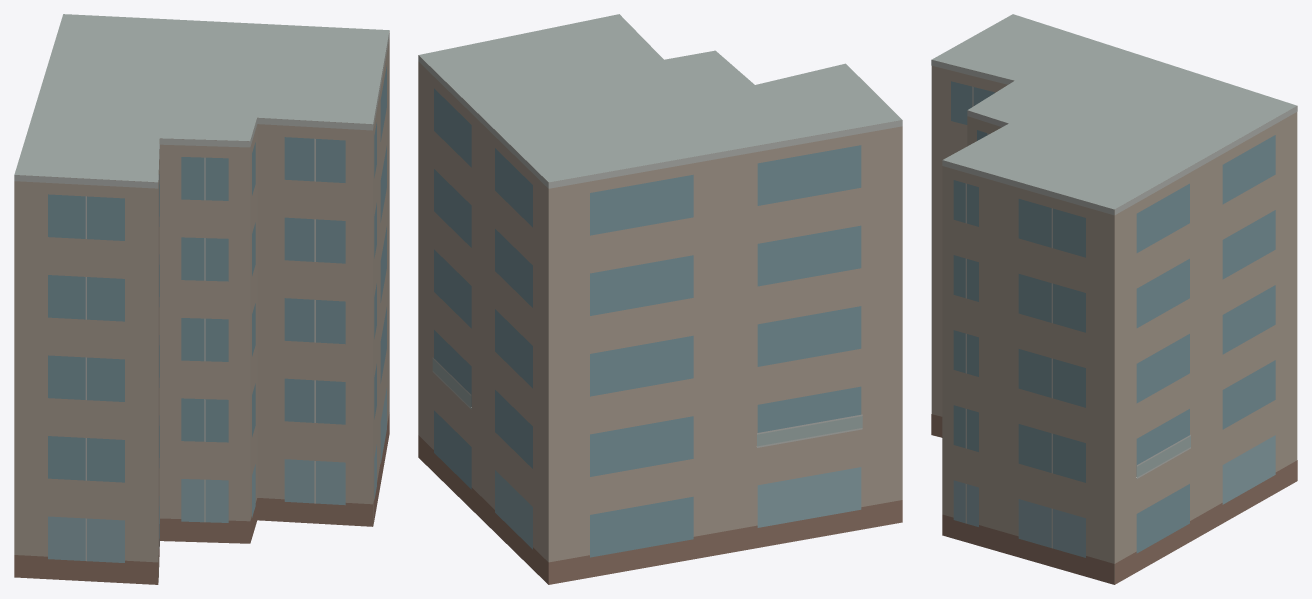
File: survey-upis-33031987.glb
3 renders of one model, left to right at view 1: azimuth 30°, elevation 25°; view 2: azimuth 150°, elevation 25°; view 3: azimuth 270°, elevation 25°, orthographic. The views are drawn at different scales.
Visible parts, largest first — view 1: survey-upis-33031987.tmp; view 2: survey-upis-33031987.tmp; view 3: survey-upis-33031987.tmp.
Boxes of the visible parts, x1,y1,x2,y2 form: survey-upis-33031987.tmp: [14, 14, 389, 584]; survey-upis-33031987.tmp: [418, 14, 902, 584]; survey-upis-33031987.tmp: [931, 14, 1297, 584].
Size of the model in its own units: 17.33 by 15.5 by 13.71.
